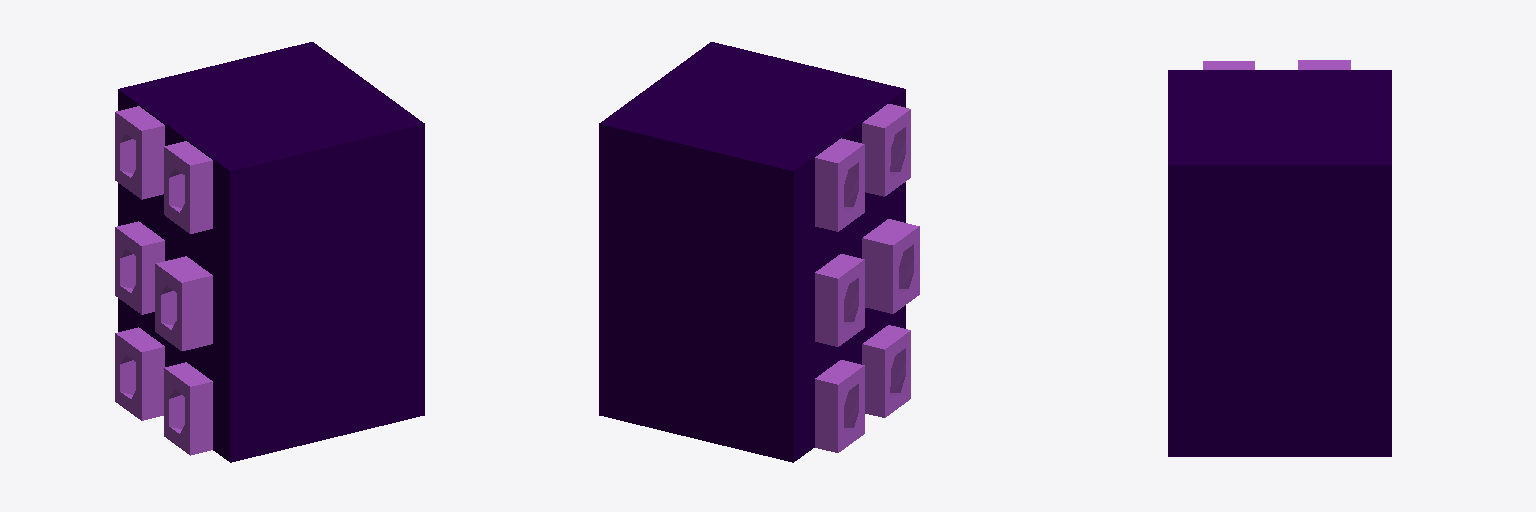
The picture shows the model from 3 angles: view 1: azimuth 30°, elevation 25°; view 2: azimuth 150°, elevation 25°; view 3: azimuth 270°, elevation 25°; orthographic projection.
Visible parts, largest first — view 1: Box001, Object; view 2: Box001, Object; view 3: Box001, Object.
Part boxes in pixels (x1,y1,x2,y2): Box001: (118,42,424,462); Object: (115,106,212,455); Box001: (599,42,905,462); Object: (815,104,919,452); Box001: (1168,70,1391,456); Object: (1203,60,1350,69).
Size of the model in its own units: 19.71 by 24.33 by 17.
Materials: 2 (2 with a texture image).